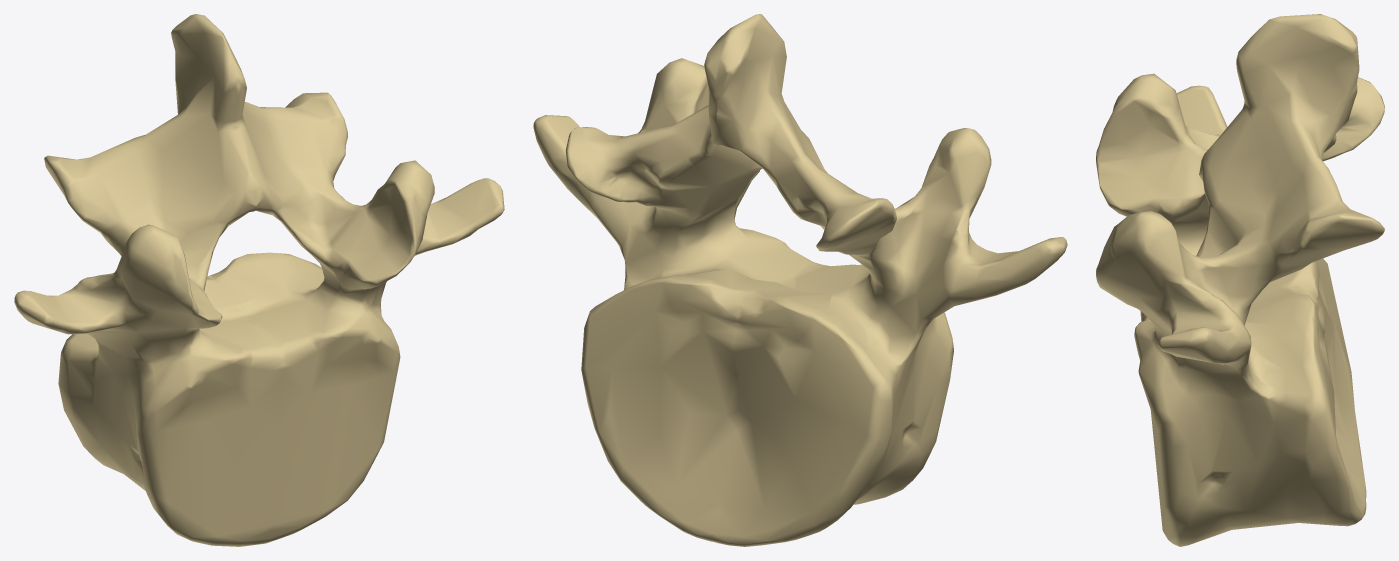
The picture shows the model from 3 angles, left to right: view 1: azimuth 30°, elevation 25°; view 2: azimuth 150°, elevation 25°; view 3: azimuth 270°, elevation 25°; orthographic projection. The views are drawn at different scales.
Parts seen in each view (by area): view 1: 第四腰椎; view 2: 第四腰椎; view 3: 第四腰椎.
Boxes of the visible parts, <box> form: 第四腰椎: <box>14,14,504,546</box>; 第四腰椎: <box>533,14,1067,546</box>; 第四腰椎: <box>1096,14,1384,546</box>.
Bounding box in the file's own units: 0.1307 × 0.1243 × 0.0632.
